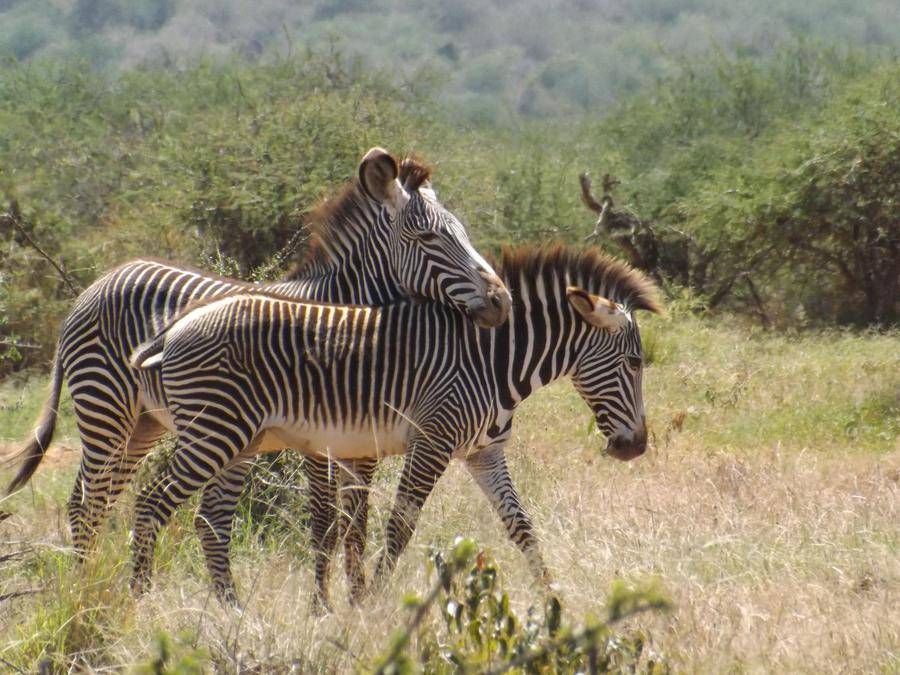zebra_grevys: (163, 287, 487, 445)
